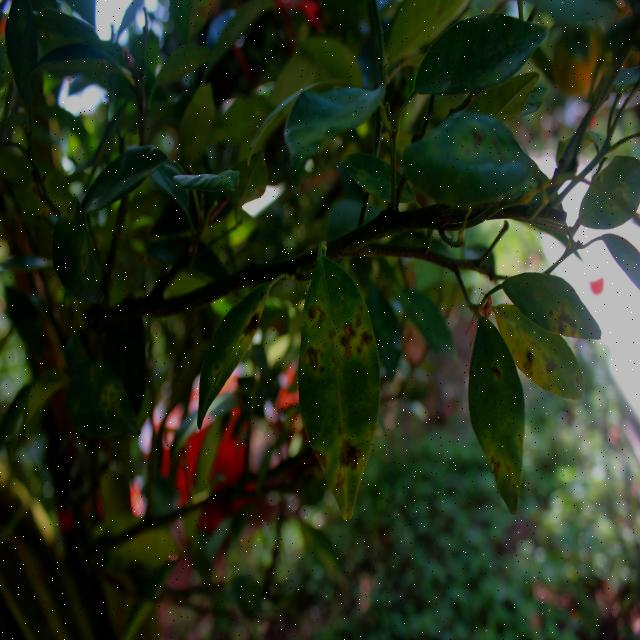canker: (304, 296, 370, 484), (474, 357, 524, 503), (200, 291, 266, 400), (516, 336, 580, 404), (456, 121, 522, 181), (63, 204, 98, 300), (584, 165, 638, 222), (85, 366, 132, 428), (548, 288, 586, 346)
